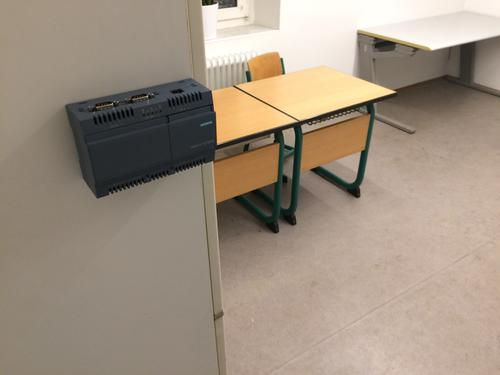iot2000: (64, 77, 218, 199)
